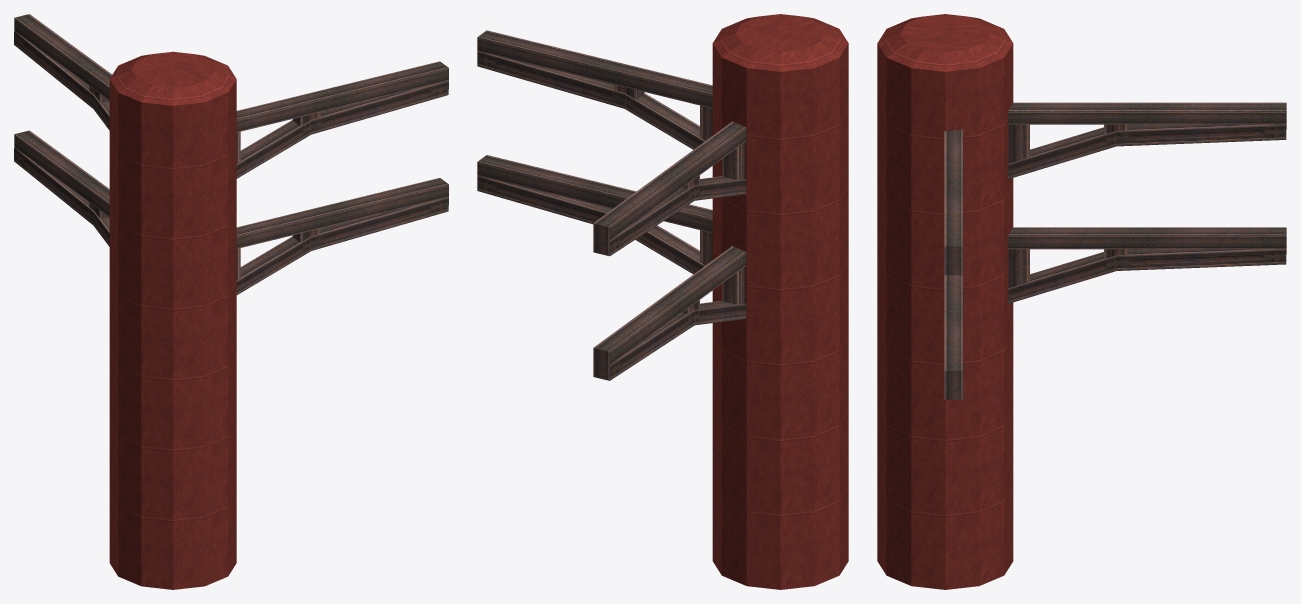
Rendered from OPLT05.glb.
3 renders of one model, left to right at view 1: azimuth 30°, elevation 25°; view 2: azimuth 150°, elevation 25°; view 3: azimuth 270°, elevation 25°, orthographic. The views are drawn at different scales.
Visible parts, largest first — view 1: _OPLT05; view 2: _OPLT05; view 3: _OPLT05.
Boxes of the visible parts, x1,y1,x2,y2 form: _OPLT05: [14, 14, 448, 589]; _OPLT05: [477, 14, 848, 589]; _OPLT05: [877, 14, 1286, 589].
Size of the model in its own units: 12.01 by 17.15 by 12.04.
2 materials, 2 textured.
